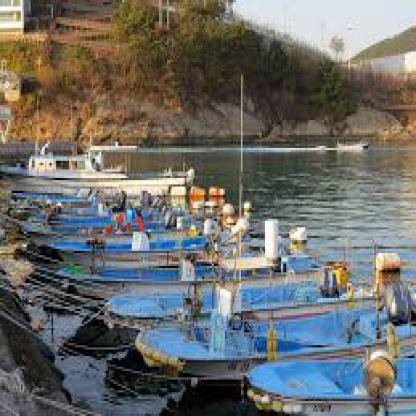fish-b: (124, 302, 414, 373), (233, 341, 414, 414), (3, 140, 209, 196), (32, 244, 328, 281)
